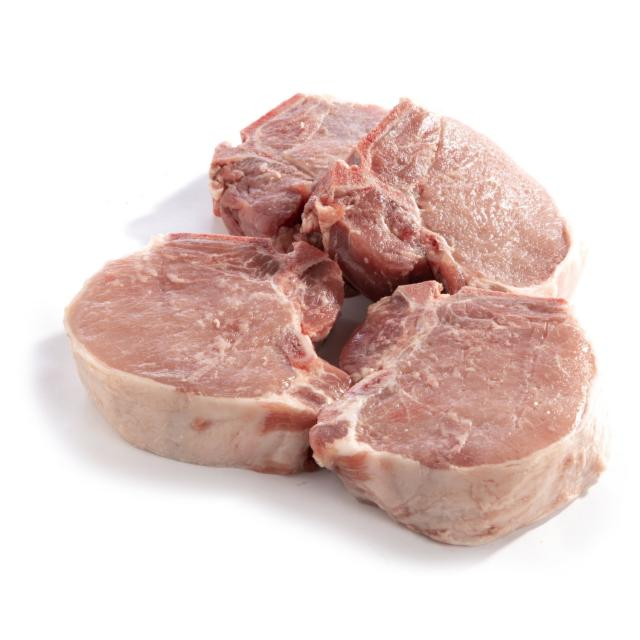pork: (306, 278, 617, 553), (212, 82, 588, 293), (65, 227, 344, 477)
